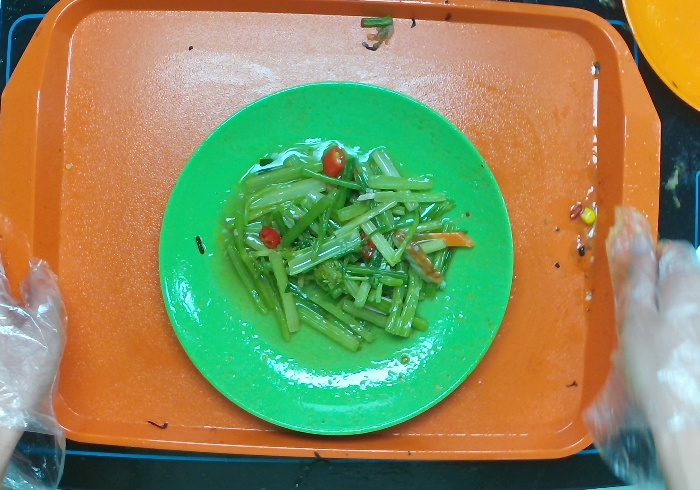HZYJPL-Lv_Se_Yuan_Pan: (132, 64, 516, 464)
